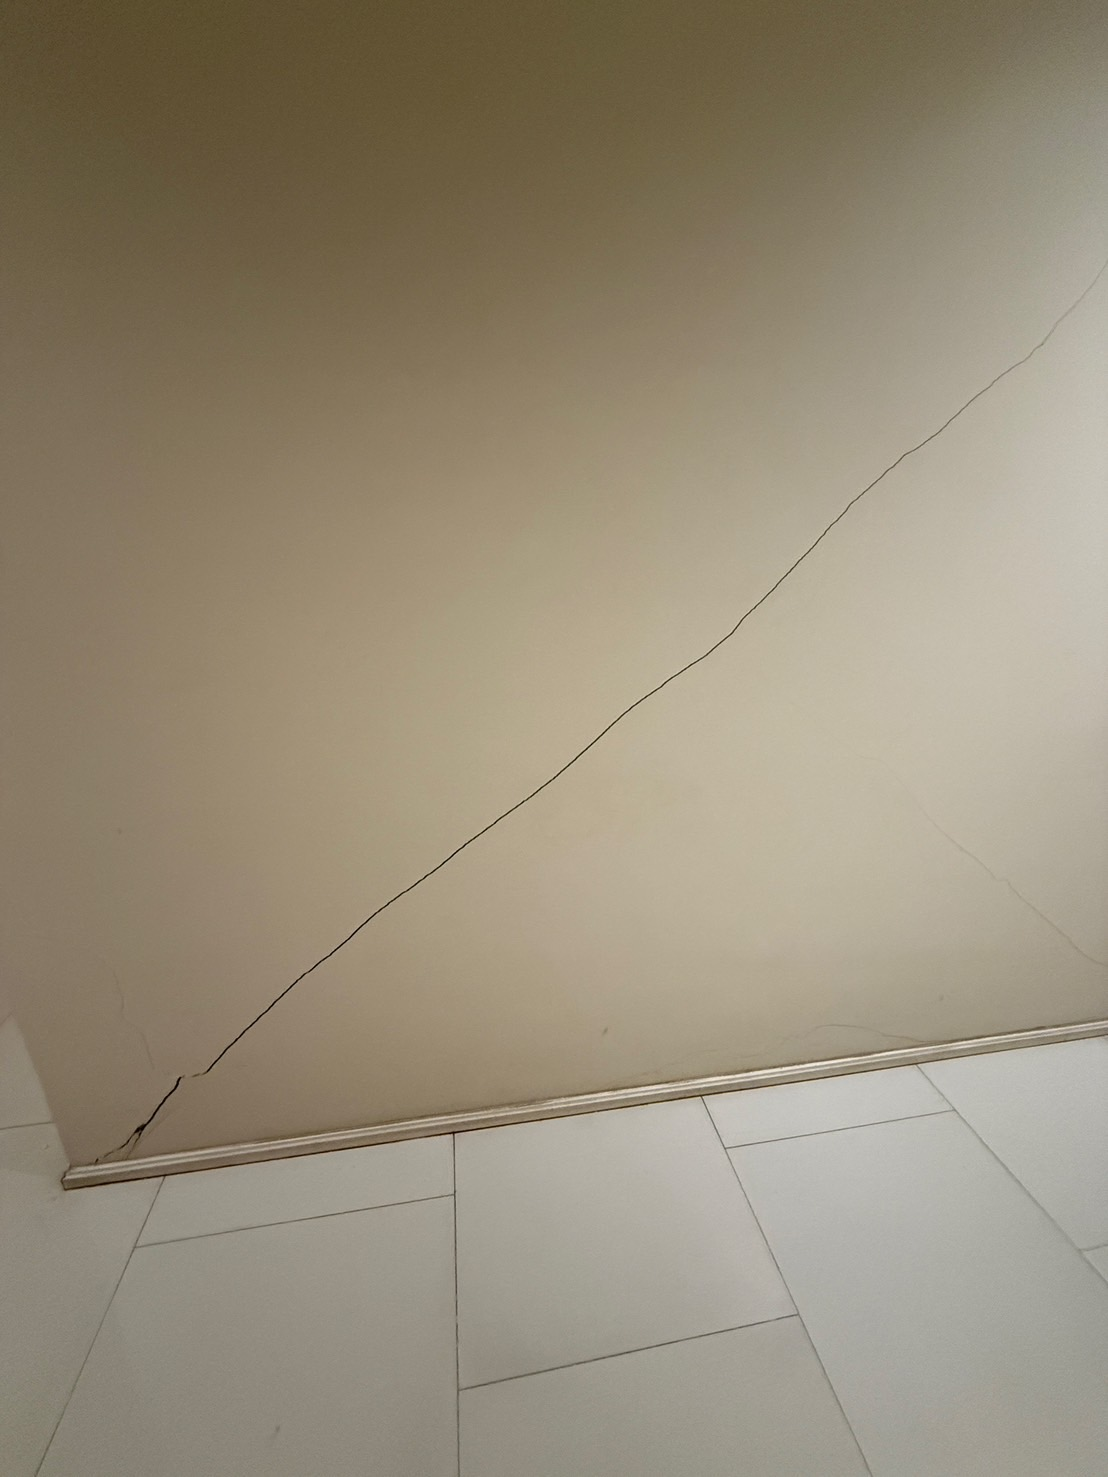Low: (72, 213, 1108, 1157)
